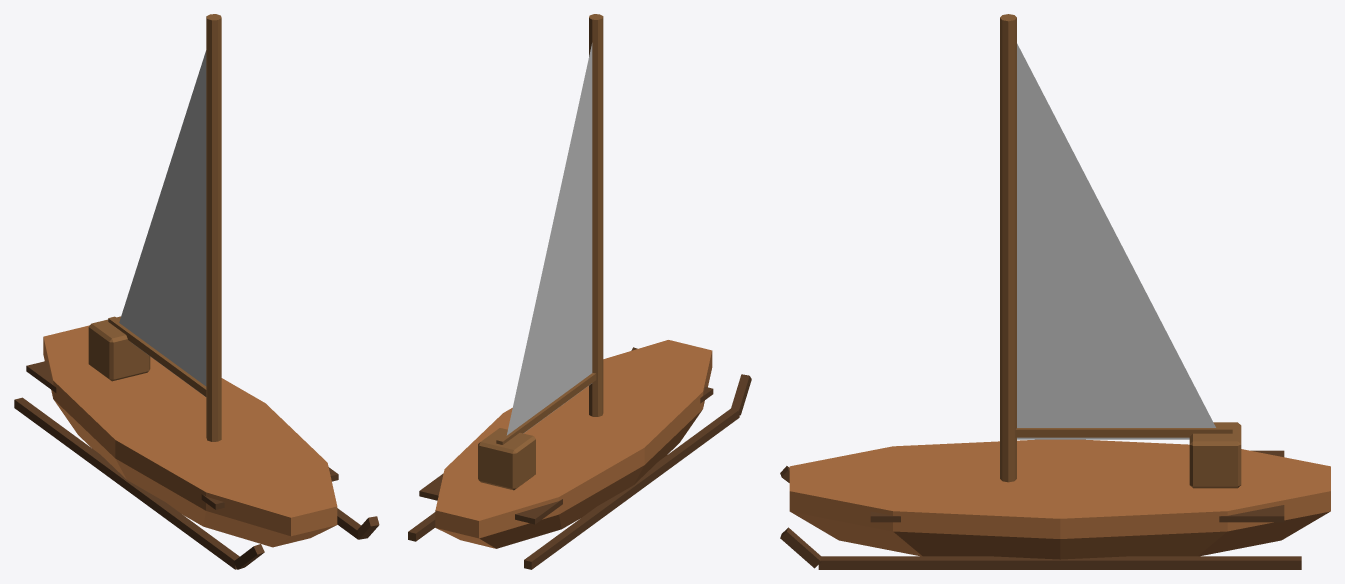
The model's file is map3_sand_skiff_v01.glb.
3 views of the same model, side by side, from view 1: azimuth 30°, elevation 25°; view 2: azimuth 150°, elevation 25°; view 3: azimuth 270°, elevation 25° (orthographic). The views are drawn at different scales.
Visible parts, largest first — view 1: sand_skiff; view 2: sand_skiff; view 3: sand_skiff.
Part boxes in pixels (x1,y1,x2,y2): sand_skiff: (14, 14, 379, 569); sand_skiff: (408, 14, 751, 569); sand_skiff: (780, 14, 1330, 569).
Bounding box in the file's own units: 1.1 × 3.31 × 3.19.
